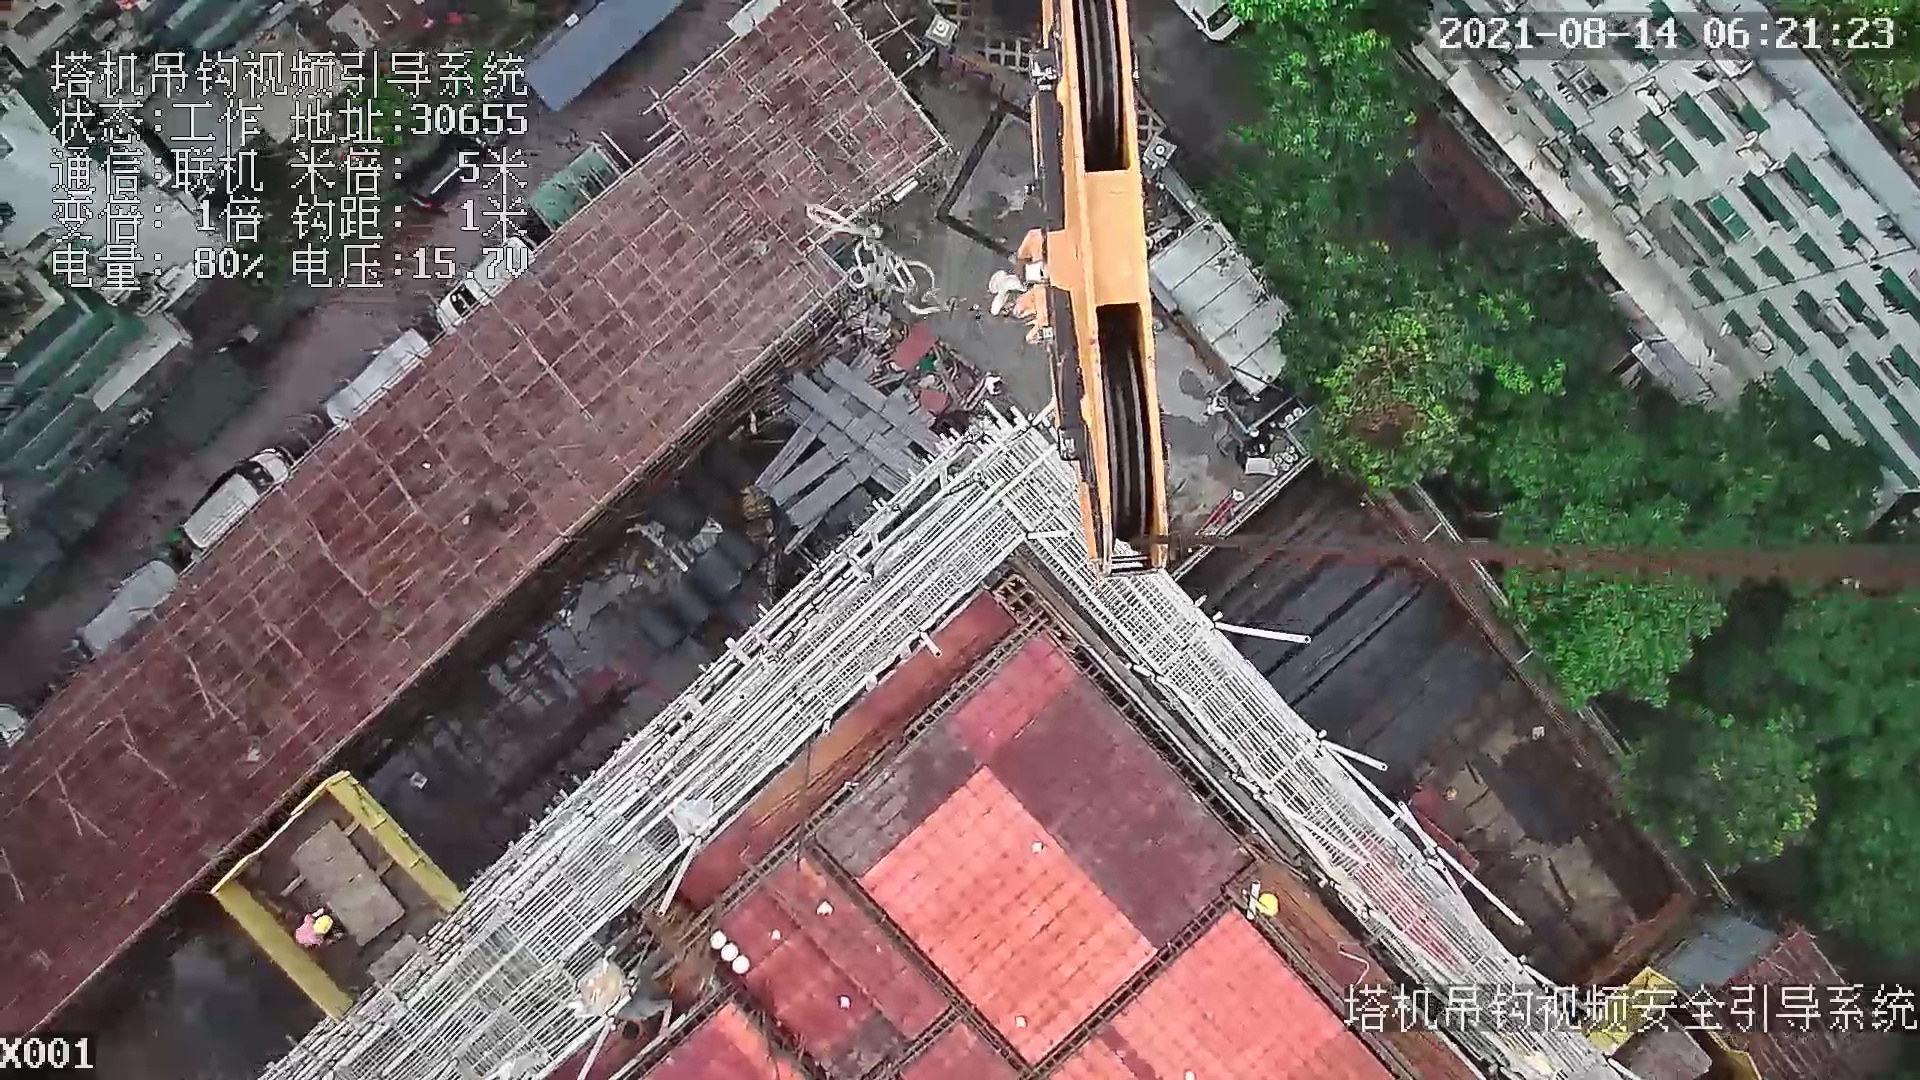helmet: (1258, 891, 1281, 919), (313, 916, 334, 934)
hook: (985, 1, 1174, 572)
person: (288, 903, 350, 951)
rebar: (1228, 485, 1440, 721)
